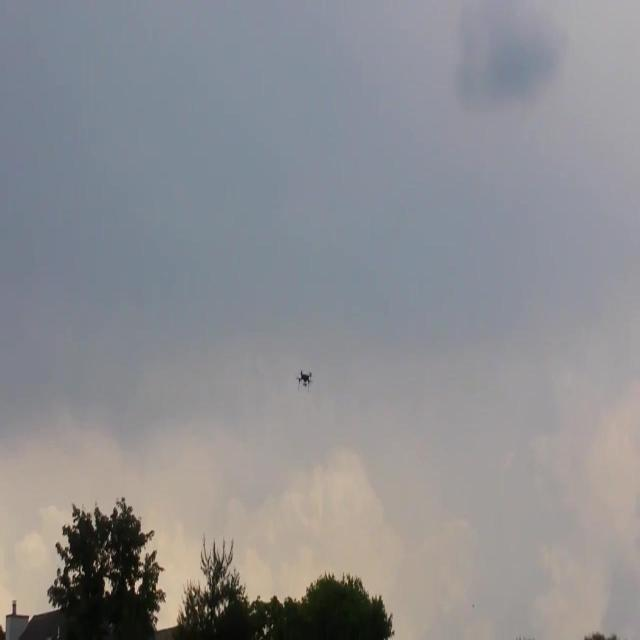drone: (296, 370, 312, 391)
